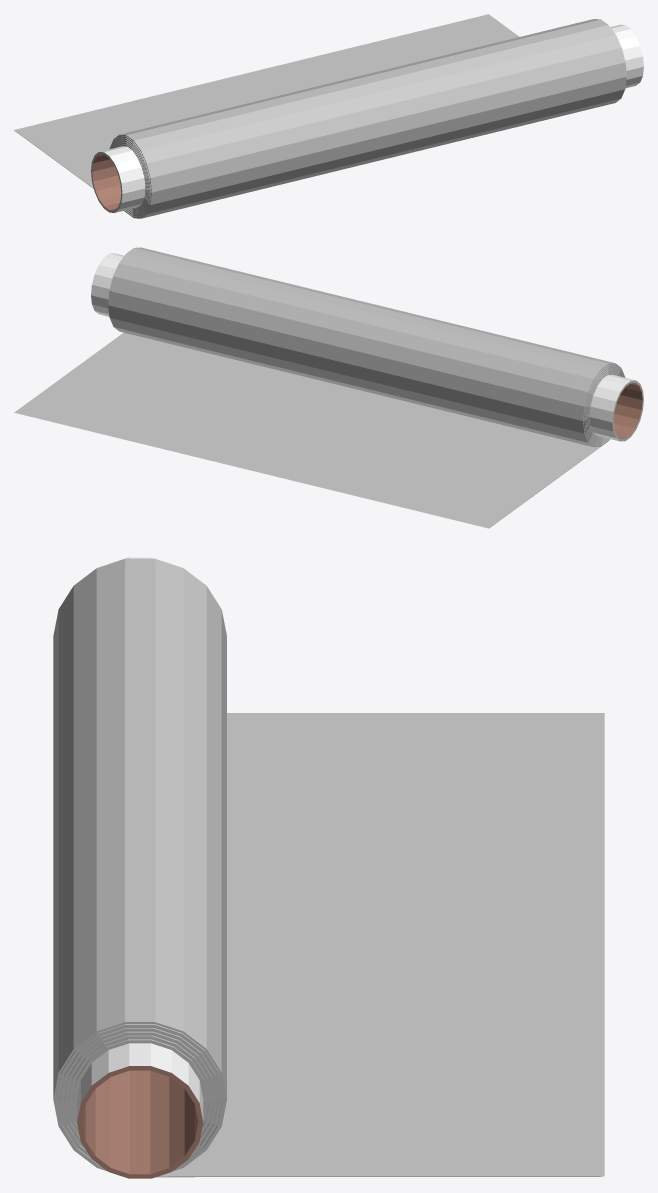
Rendered from 7a13ca0e-24cd-479c-8d7f-87c9e8cbe025.glb.
3 views of the same model, one above another, from view 1: azimuth 30°, elevation 25°; view 2: azimuth 150°, elevation 25°; view 3: azimuth 270°, elevation 25° (orthographic). The views are drawn at different scales.
Visible parts, largest first — view 1: Cylinder002; view 2: Cylinder002; view 3: Cylinder002.
Part boxes in pixels (<box>): Cylinder002: <box>14,14,643,218</box>; Cylinder002: <box>14,247,643,528</box>; Cylinder002: <box>53,557,604,1178</box>.
Bounding box in the file's own units: 845969 × 120195 × 387310.
